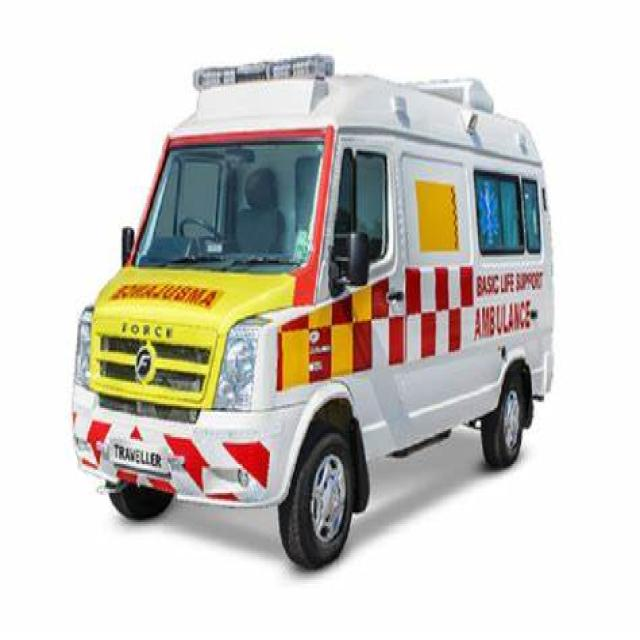ambulance: (186, 50, 338, 91)
